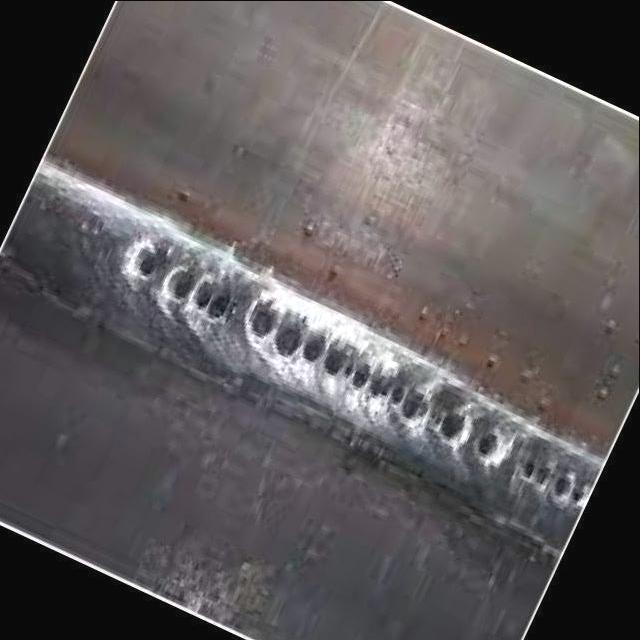defect: (242, 291, 435, 432), (127, 236, 240, 330), (518, 454, 589, 510), (441, 403, 482, 450), (473, 424, 510, 475)
